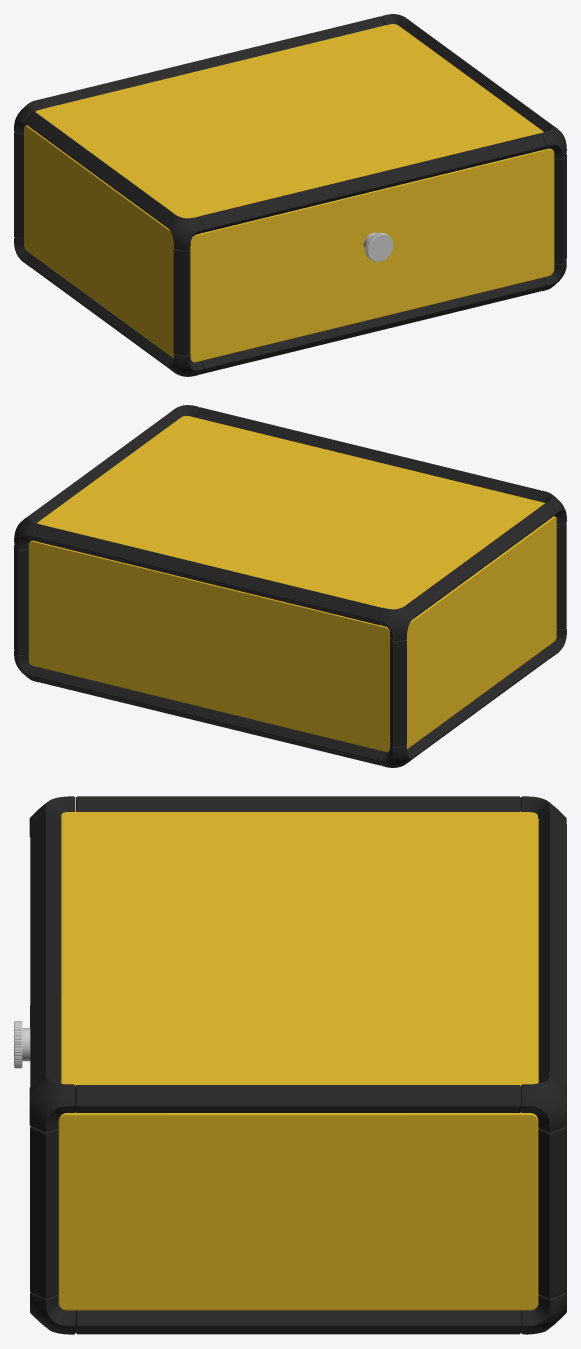
The picture shows the model from 3 angles, top to bottom: view 1: azimuth 30°, elevation 25°; view 2: azimuth 150°, elevation 25°; view 3: azimuth 270°, elevation 25°; orthographic projection. The views are drawn at different scales.
Parts seen in each view (by area): view 1: 523x374x154; view 2: 523x374x154; view 3: 523x374x154.
Boxes of the visible parts, <box> form: 523x374x154: <box>14,14,566,376</box>; 523x374x154: <box>14,405,566,767</box>; 523x374x154: <box>14,796,566,1334</box>.
Bounding box in the file's own units: 0.6007 × 0.2315 × 0.4646.
